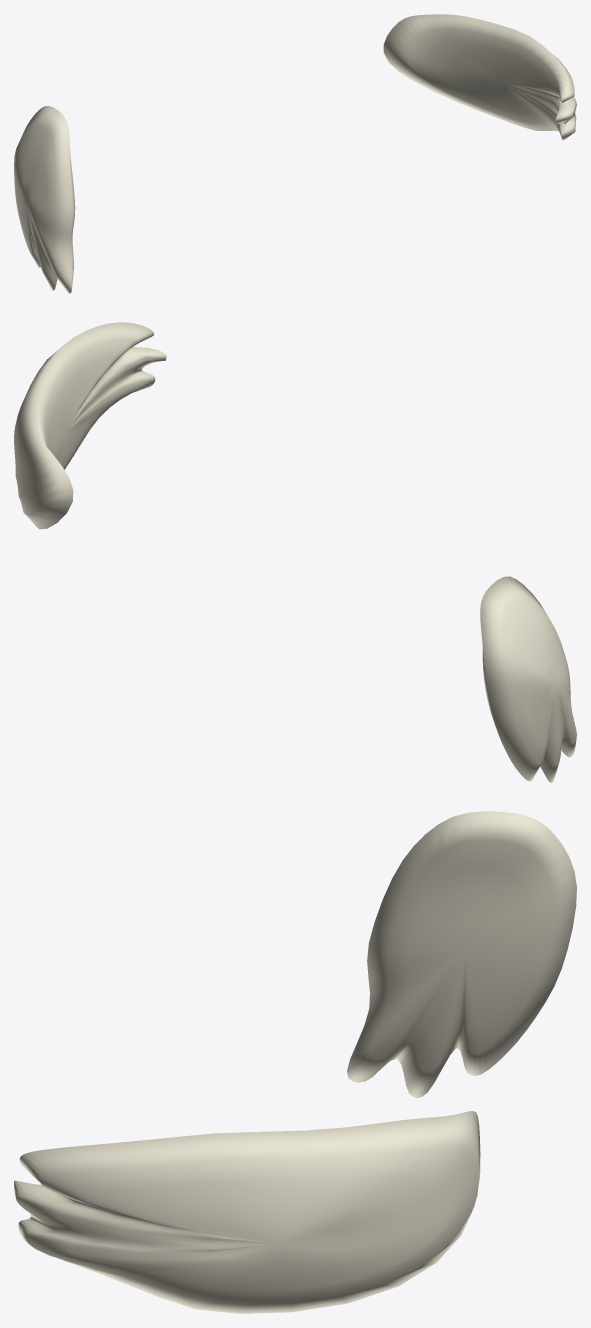
Rendered from goose-weapon-wings-aim_up-only.glb.
3 views of the same model, one above another, from view 1: azimuth 30°, elevation 25°; view 2: azimuth 150°, elevation 25°; view 3: azimuth 270°, elevation 25° (orthographic). The views are drawn at different scales.
Visible parts, largest first — view 1: goose_rightArm_mesh, goose_leftArm_mesh; view 2: goose_rightArm_mesh, goose_leftArm_mesh; view 3: goose_rightArm_mesh, goose_leftArm_mesh.
Part boxes in pixels (bbox=[...]): goose_rightArm_mesh: bbox=[383, 14, 576, 140]; goose_leftArm_mesh: bbox=[14, 106, 75, 293]; goose_rightArm_mesh: bbox=[14, 322, 166, 529]; goose_leftArm_mesh: bbox=[480, 576, 576, 782]; goose_rightArm_mesh: bbox=[14, 1111, 480, 1313]; goose_leftArm_mesh: bbox=[347, 811, 576, 1097].
Bounding box in the file's own units: 1.21 × 0.4801 × 0.6742.
